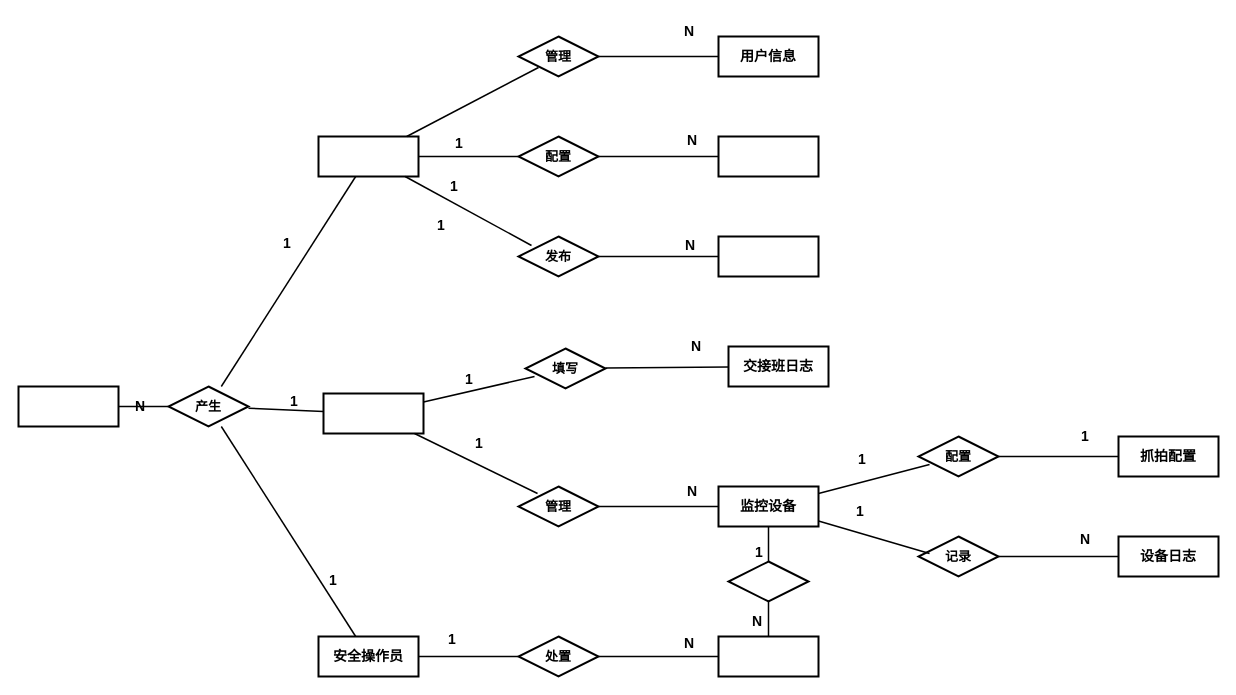
This 1236x695 diagram has some shape labels left out. Each missing label, with the centre of its shape:
SOP公告: (768,256)
告警事件: (768,656)
安全主管: (373,413)
系统参数: (768,156)
系统日志: (68,406)
系统管理员: (368,156)
触发: (768,581)
